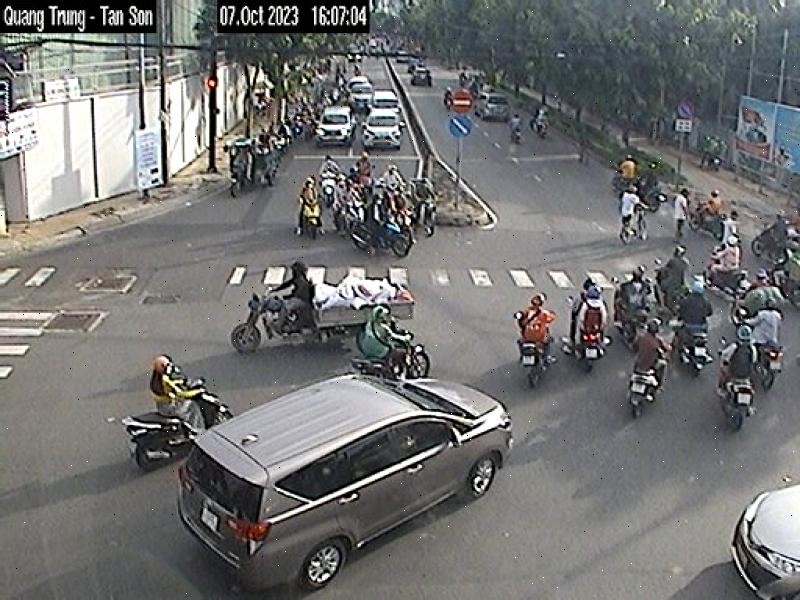car: (175, 374, 515, 590), (316, 105, 356, 146), (364, 108, 402, 148)
motorcycle: (123, 376, 234, 472)
